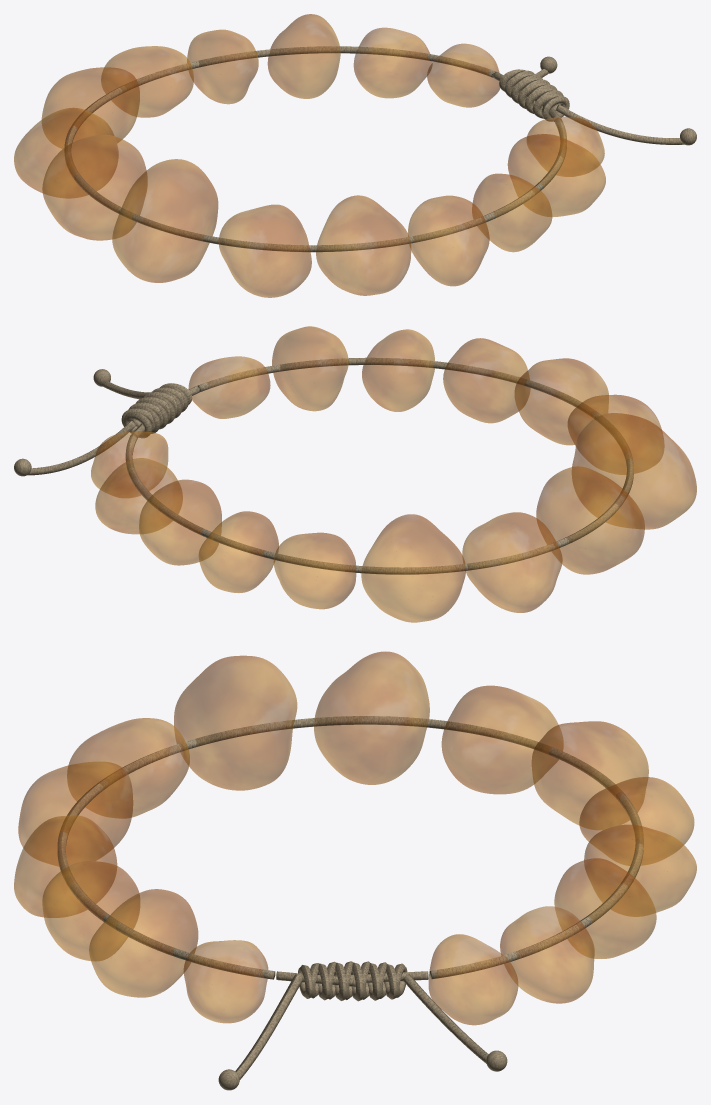
File: koniak.glb
The picture shows the model from 3 angles, top to bottom: view 1: azimuth 30°, elevation 25°; view 2: azimuth 150°, elevation 25°; view 3: azimuth 270°, elevation 25°; orthographic projection. The views are drawn at different scales.
Parts seen in each view (by area): view 1: bead_nugget_3.001, bead_nugget_2.001, nic.009, bead_nugget_0.002, bead_nugget_1.001, bead_nugget_4.001, bead_nugget_3.002, bead_nugget_0.001, bead_nugget_1.002, bead_nugget_4, bead_nugget_2, bead_nugget_2.002 (+5 smaller); view 2: bead_nugget_3.001, bead_nugget_2.001, bead_nugget_0.001, nic.009, bead_nugget_1.001, bead_nugget_0.002, bead_nugget_1.002, bead_nugget_2, bead_nugget_4.001, bead_nugget_4, bead_nugget_3.002, bead_nugget_1 (+5 smaller); view 3: bead_nugget_3.001, bead_nugget_2.001, nic.009, bead_nugget_1.001, bead_nugget_0.001, bead_nugget_0.002, bead_nugget_4.001, bead_nugget_3.002, bead_nugget_1.002, bead_nugget_3, bead_nugget_2, bead_nugget_2.002 (+6 smaller).
Part boxes in pixels (<box>): bead_nugget_3.001: <box>112,159,218,282</box>; bead_nugget_2.001: <box>42,134,147,240</box>; nic.009: <box>64,46,566,252</box>; bead_nugget_0.002: <box>316,195,411,295</box>; bead_nugget_1.001: <box>14,107,118,198</box>; bead_nugget_4.001: <box>218,204,311,297</box>; bead_nugget_3.002: <box>507,134,605,217</box>; bead_nugget_0.001: <box>41,67,139,148</box>; bead_nugget_1.002: <box>408,195,489,286</box>; bead_nugget_4: <box>101,46,193,117</box>; bead_nugget_2: <box>267,14,340,98</box>; bead_nugget_2.002: <box>472,173,552,252</box>; bead_nugget_3.001: <box>572,413,696,529</box>; bead_nugget_2.001: <box>536,466,644,574</box>; bead_nugget_0.001: <box>361,514,465,622</box>; nic.009: <box>125,357,633,574</box>; bead_nugget_1.001: <box>462,512,562,612</box>; bead_nugget_0.002: <box>514,358,608,445</box>; bead_nugget_1.002: <box>443,338,530,423</box>; bead_nugget_2: <box>139,479,221,565</box>; bead_nugget_4.001: <box>567,394,664,474</box>; bead_nugget_4: <box>273,532,356,609</box>; bead_nugget_3.002: <box>272,326,348,411</box>; bead_nugget_1: <box>95,458,182,534</box>; bead_nugget_3.001: <box>174,655,297,790</box>; bead_nugget_2.001: <box>314,651,429,784</box>; nic.009: <box>57,716,643,979</box>; bead_nugget_1.001: <box>441,685,563,794</box>; bead_nugget_0.001: <box>531,721,648,829</box>; bead_nugget_0.002: <box>18,761,133,866</box>; bead_nugget_4.001: <box>67,718,189,818</box>; bead_nugget_3.002: <box>89,889,198,997</box>; bead_nugget_1.002: <box>14,815,117,917</box>; bead_nugget_3: <box>584,824,696,916</box>; bead_nugget_2: <box>554,858,656,958</box>; bead_nugget_2.002: <box>42,861,139,960</box>.
Size of the model in its own units: 7.87 by 1.39 by 6.42.
4 materials, 4 textured.
